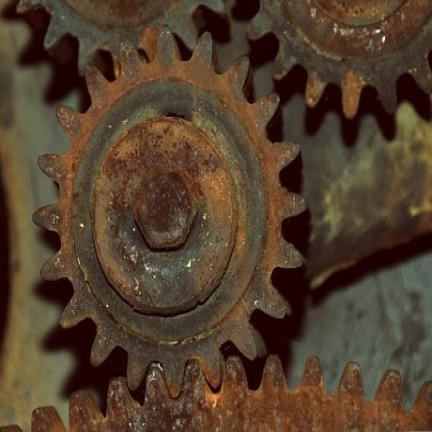karat: (34, 27, 306, 396), (31, 356, 431, 431), (248, 0, 431, 118)
